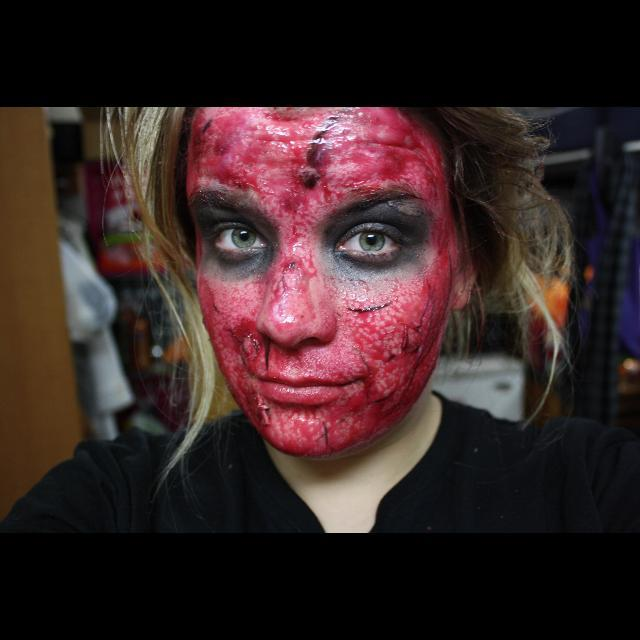blood: (186, 107, 473, 459)
